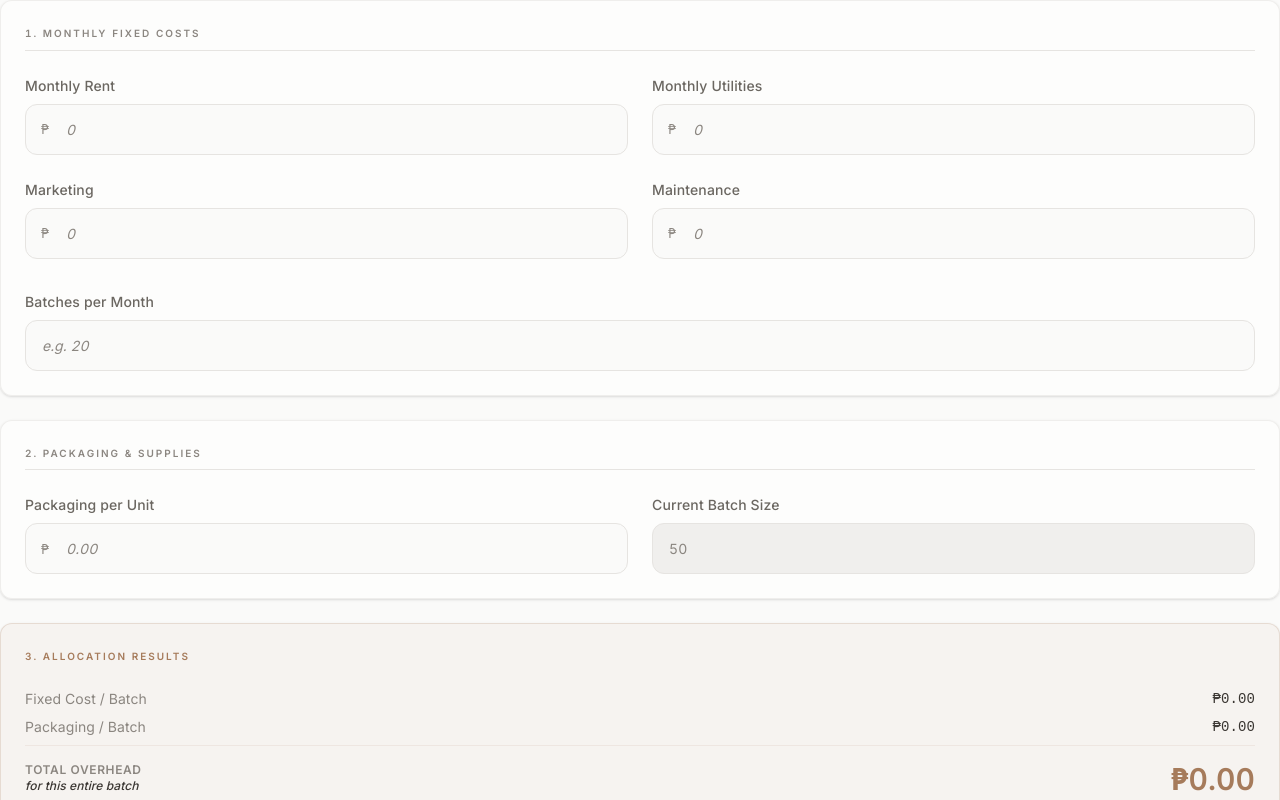
Test: OverheadCalculator › calculates total overhead correctly
This screenshot has width=1280, height=800.
Type "10000" into the number field labelled "Monthly Rent" at [326, 129], box [25,104,628,154]
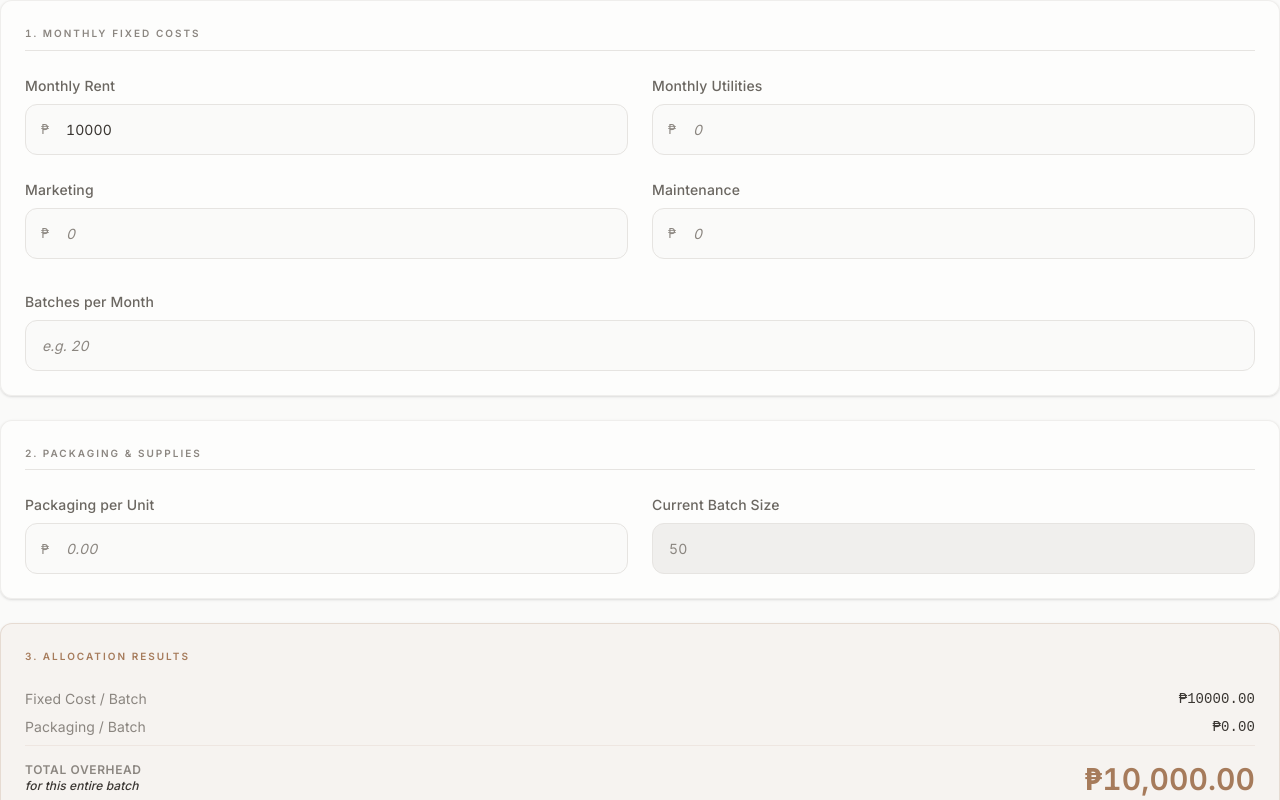
Type "20" into the number field labelled "Batches per Month" at [640, 345], box [25,320,1255,370]
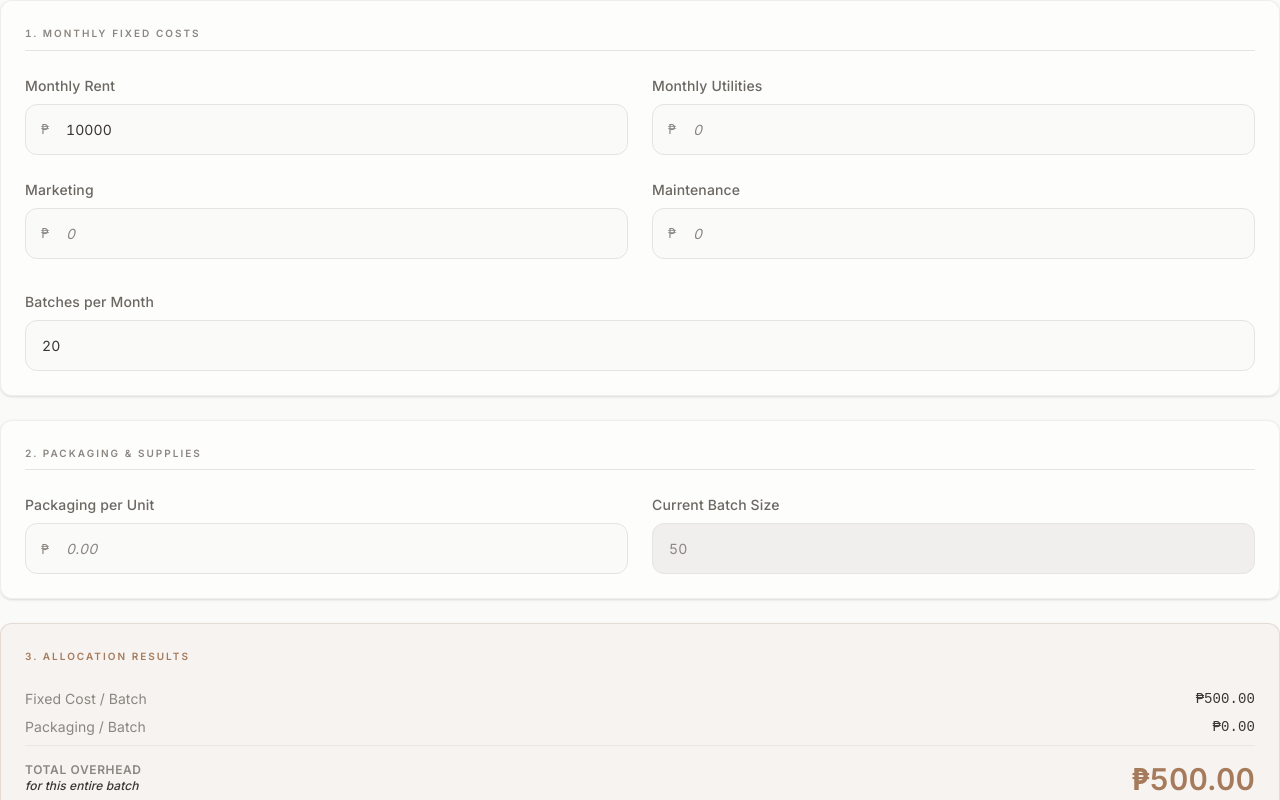
Type "2000" into the number field labelled "Monthly Utilities" at [954, 129], box [652,104,1255,154]
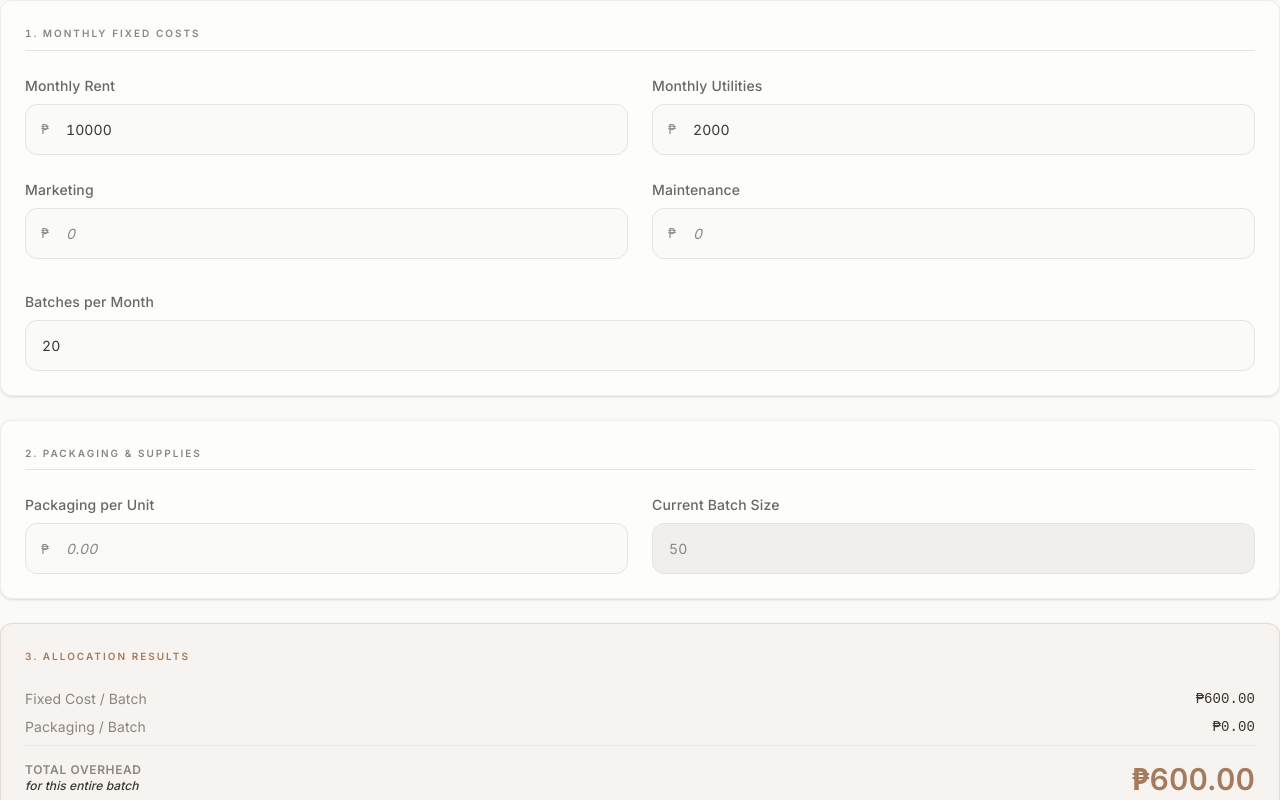
Type "5" into the number field labelled "Packaging per Unit" at [326, 548], box [25,523,628,574]
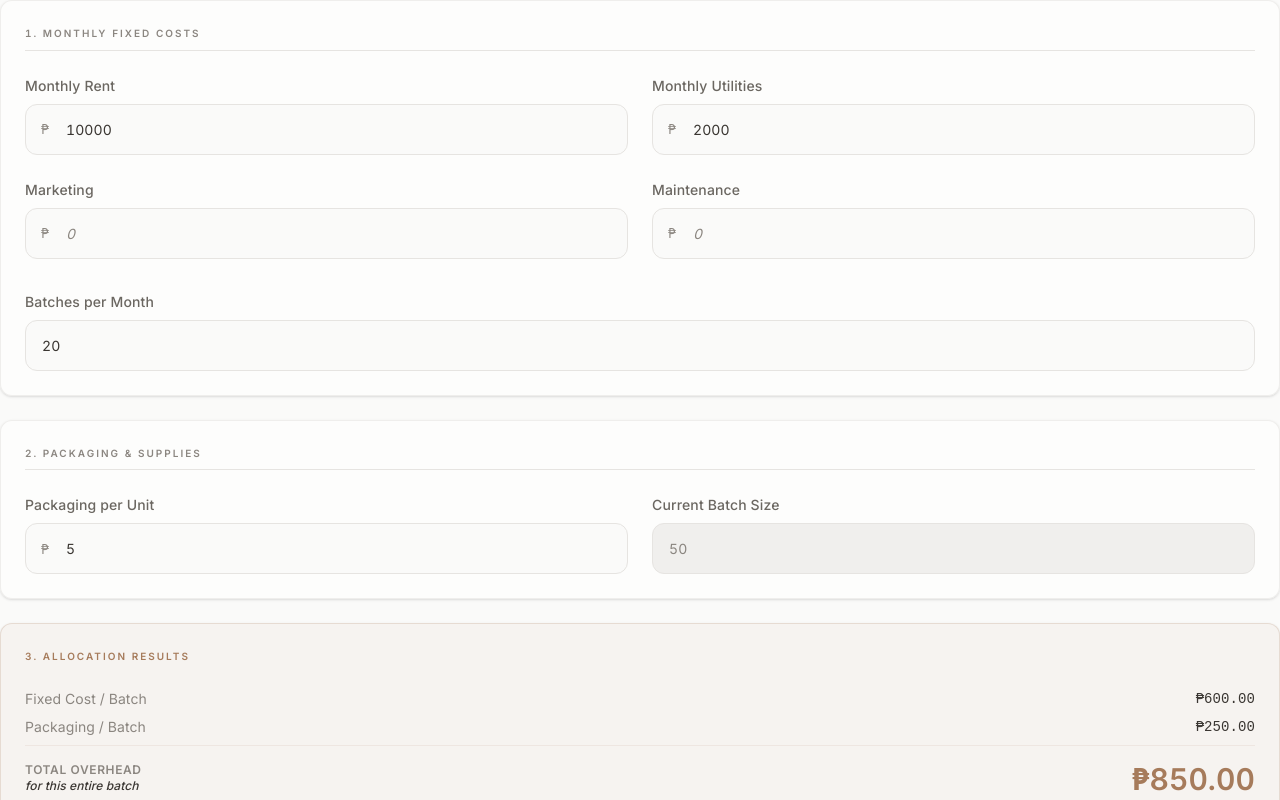
Expected: the text "₱850.00" is shown, [1132,764,1255,794]
